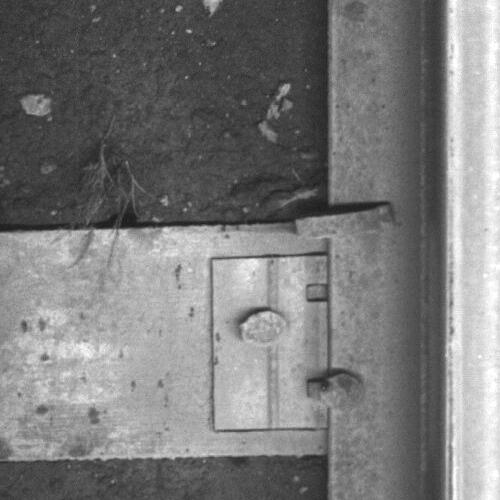crutch: (293, 201, 399, 240)
do: (209, 251, 367, 430)
rail: (445, 1, 500, 500)
tie_wood: (1, 230, 331, 454)
